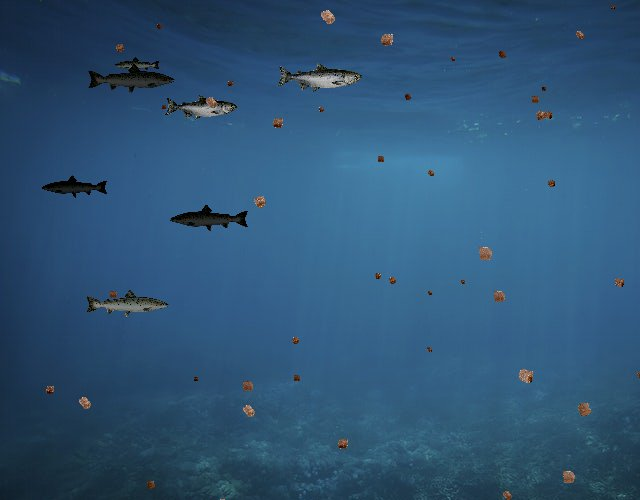Fish: (86, 62, 176, 94), (84, 288, 170, 319), (276, 62, 362, 93), (169, 203, 250, 233), (165, 94, 238, 121), (42, 175, 110, 199), (114, 56, 161, 73)
Pellet: (312, 2, 342, 32), (471, 239, 499, 267), (487, 284, 511, 308), (199, 90, 223, 114), (530, 105, 550, 125), (497, 485, 517, 500), (458, 276, 468, 286)
